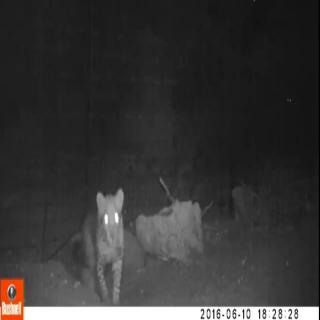Leopard: (72, 180, 144, 298)
